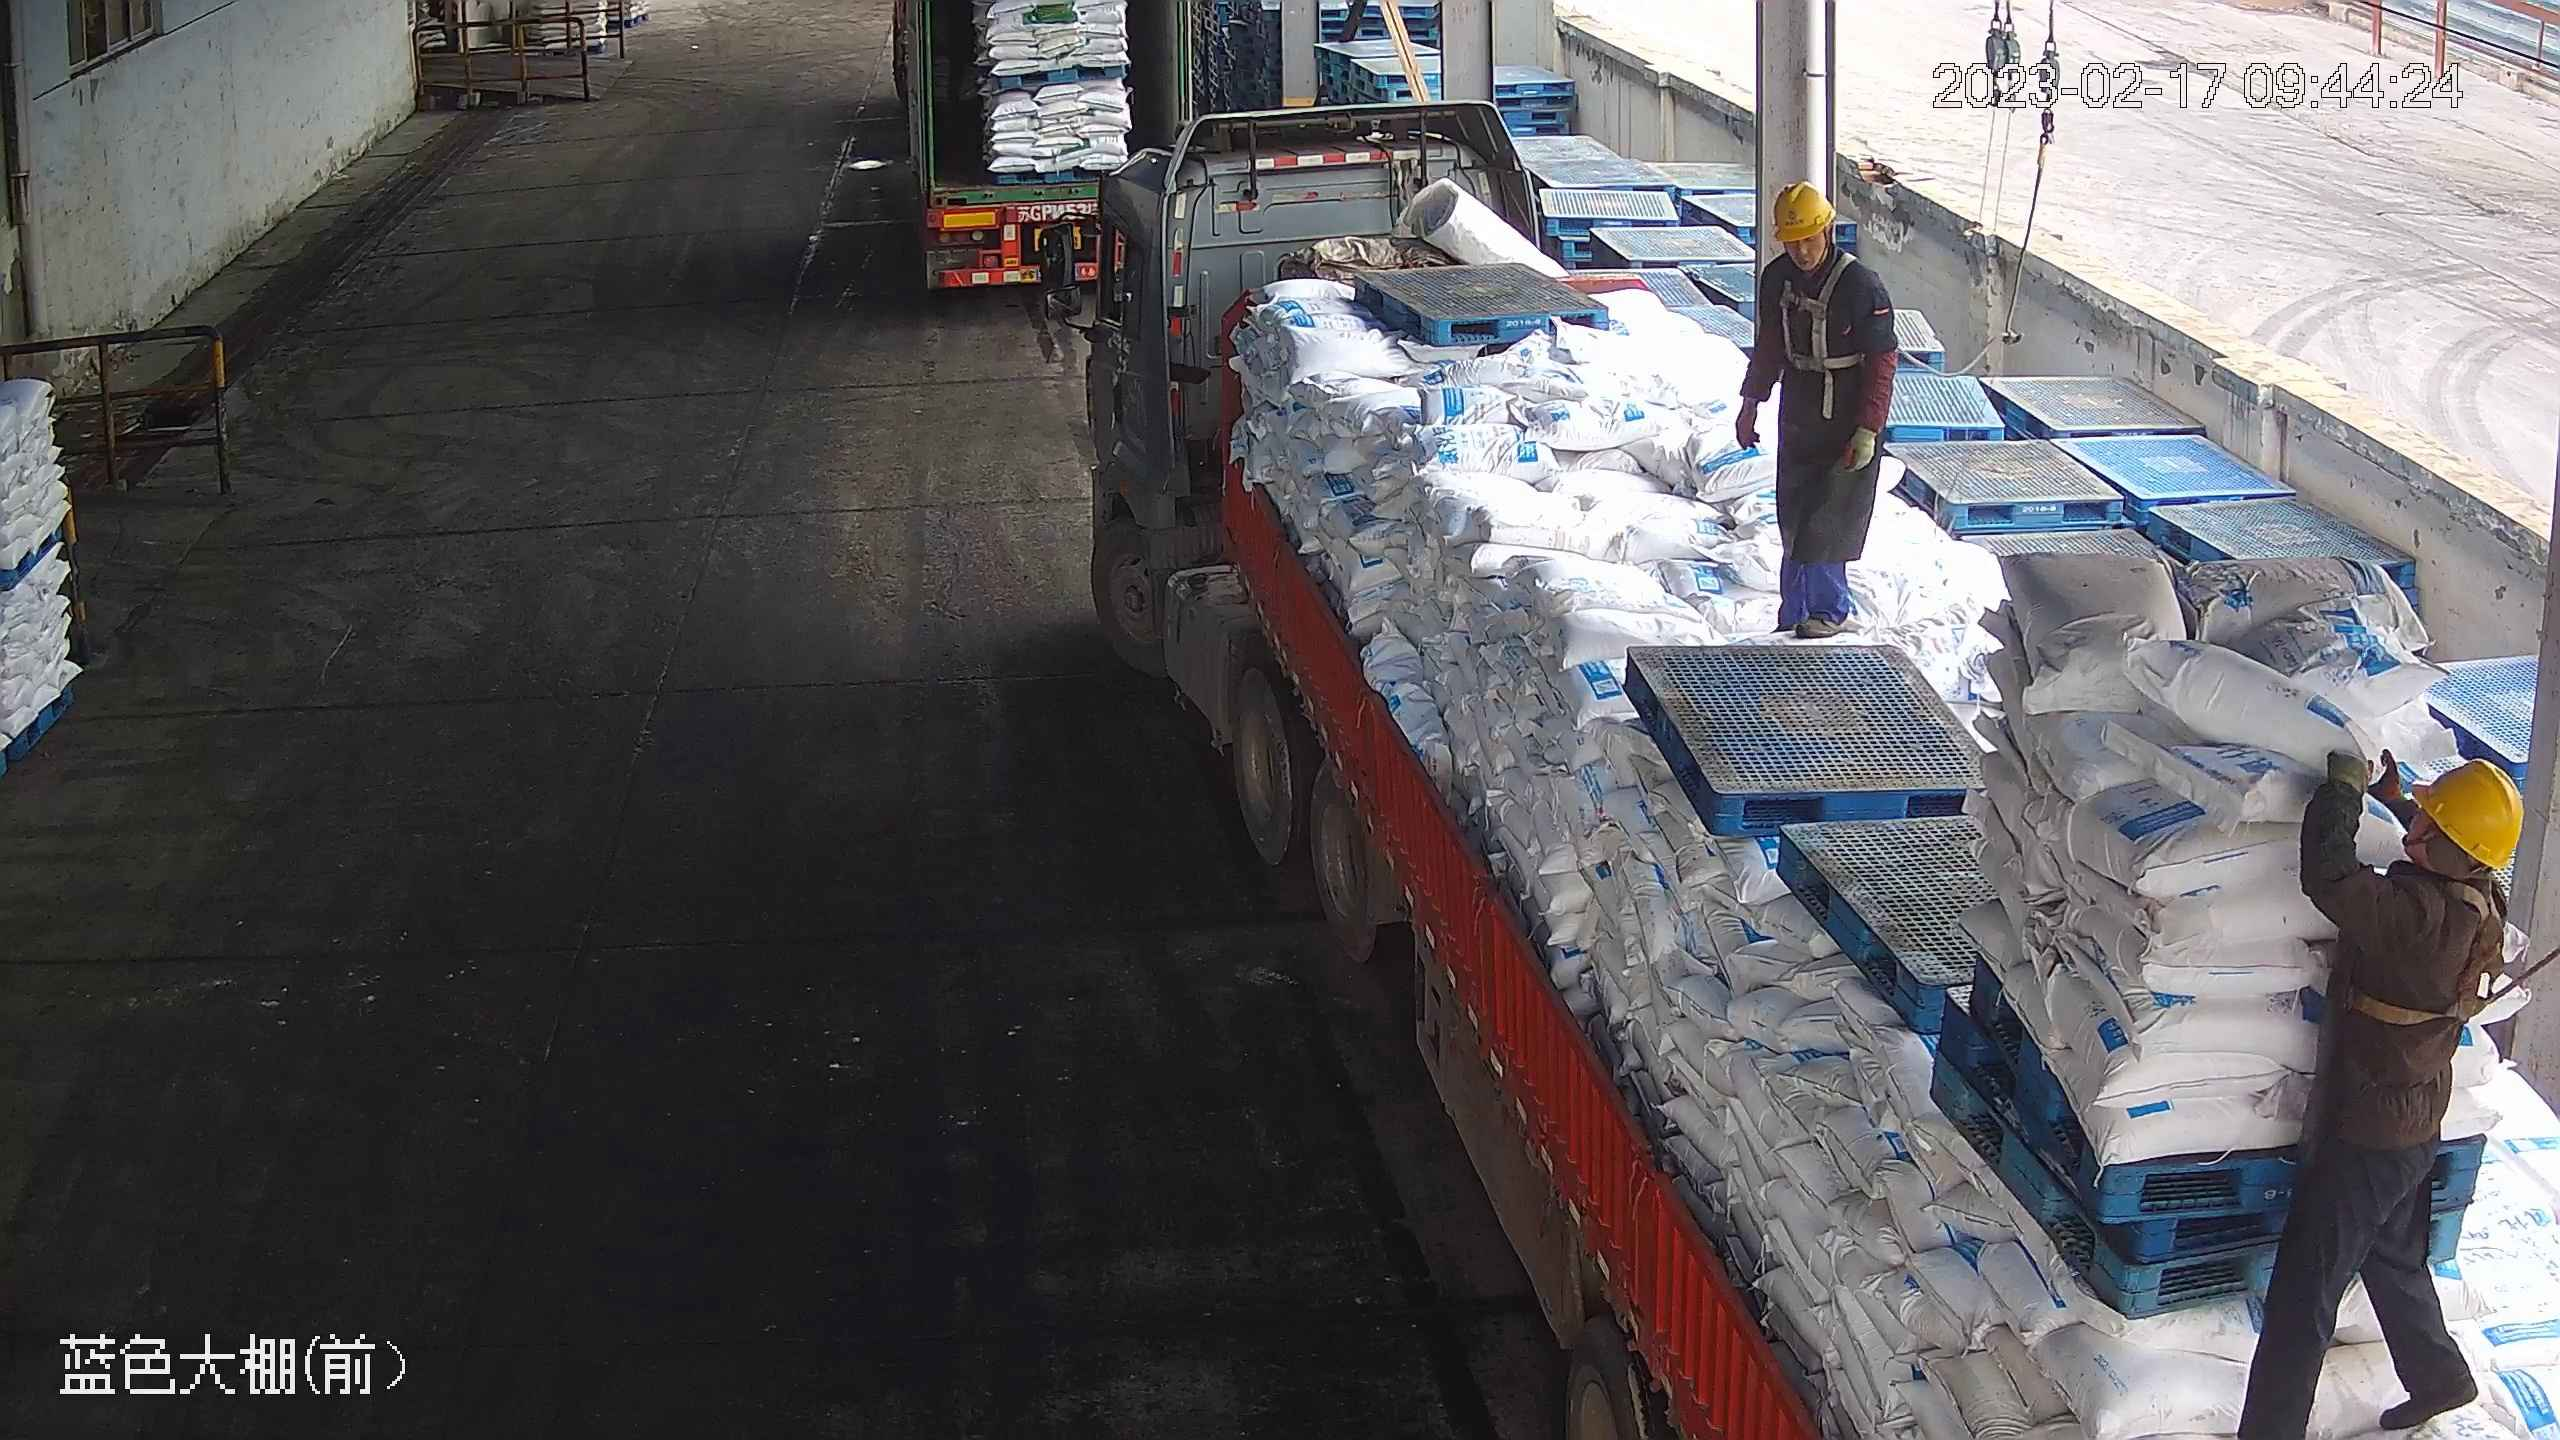belt: (2361, 865, 2511, 1032), (1774, 249, 1866, 370)
head: (2335, 756, 2523, 961), (1750, 180, 1892, 321)
helmet: (2413, 755, 2525, 872), (1768, 179, 1840, 242)
people: (2261, 745, 2524, 1425), (1733, 177, 1899, 638)
truck: (1052, 129, 2552, 1440), (873, 3, 1203, 299)
